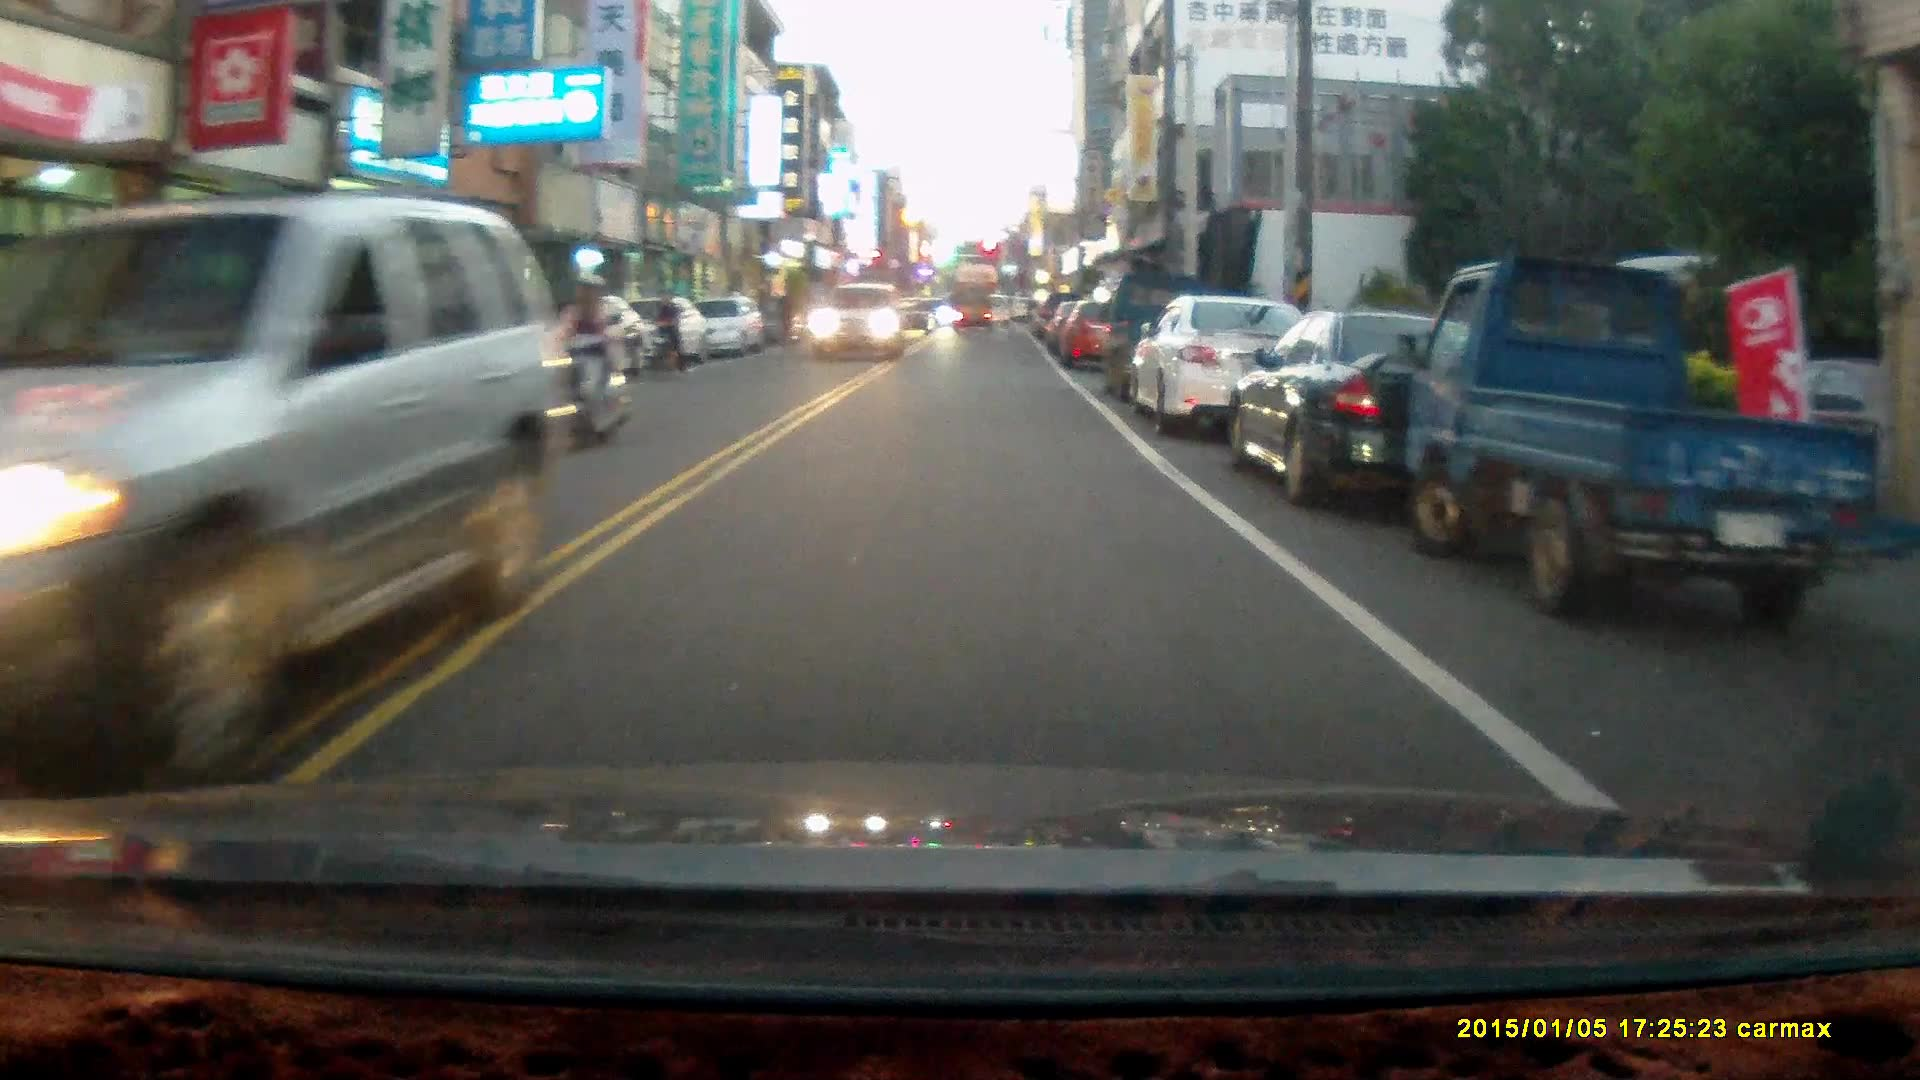pedestrian: (776, 282, 798, 342)
rider: (547, 272, 630, 454), (645, 288, 687, 376)
vehicle: (1, 193, 587, 770), (1403, 253, 1892, 622), (1230, 311, 1604, 521), (1132, 295, 1327, 443), (806, 282, 905, 361), (1061, 299, 1144, 374), (695, 295, 774, 363), (953, 284, 994, 335), (894, 294, 940, 339)
